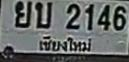1: (84, 3, 93, 29)
2: (65, 3, 79, 28)
4: (97, 4, 109, 30)
6: (113, 5, 125, 30)
A26: (34, 1, 52, 28)
A34: (14, 0, 31, 27)
CMI: (36, 33, 94, 54)
